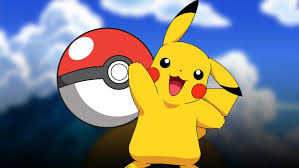pikachu: (117, 1, 252, 168)
